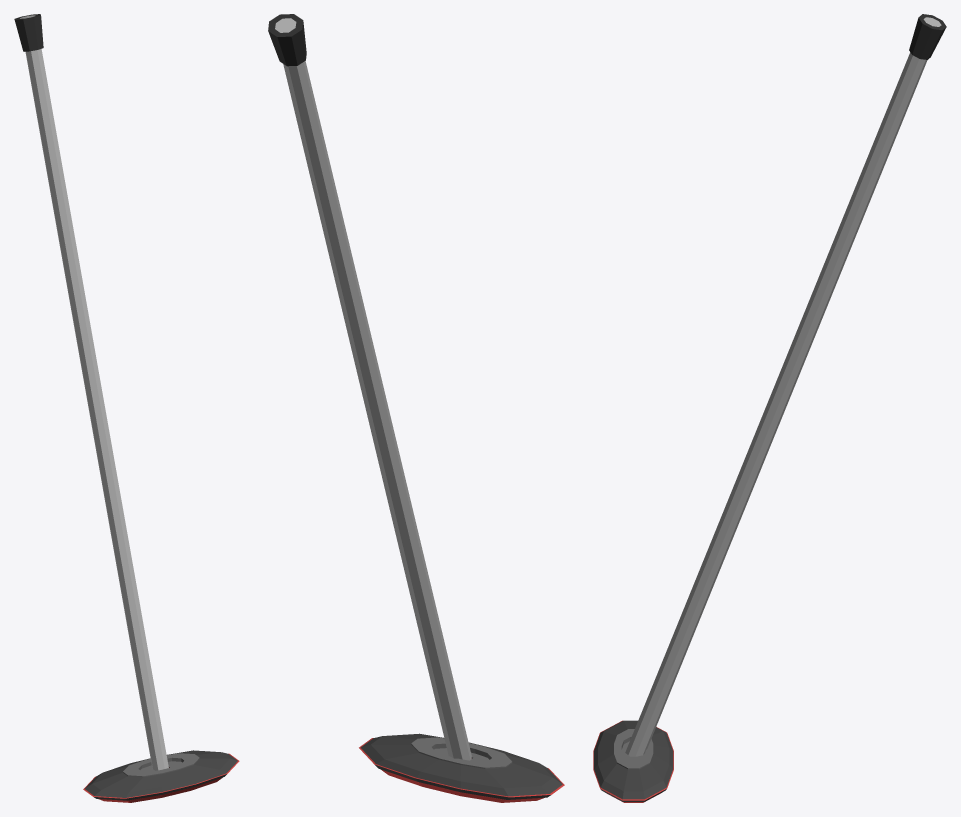
Rendered from Curling Broom.fbx.
The picture shows the model from 3 angles, left to right: view 1: azimuth 30°, elevation 25°; view 2: azimuth 150°, elevation 25°; view 3: azimuth 270°, elevation 25°; orthographic projection. The views are drawn at different scales.
Visible parts, largest first — view 1: Curling Broom; view 2: Curling Broom; view 3: Curling Broom.
Boxes of the visible parts, left/top/right/bottom form: Curling Broom: left=14, top=14, right=239, bottom=802; Curling Broom: left=268, top=14, right=564, bottom=802; Curling Broom: left=593, top=14, right=946, bottom=802.
Size of the model in its own units: 275 by 1215 by 514.
